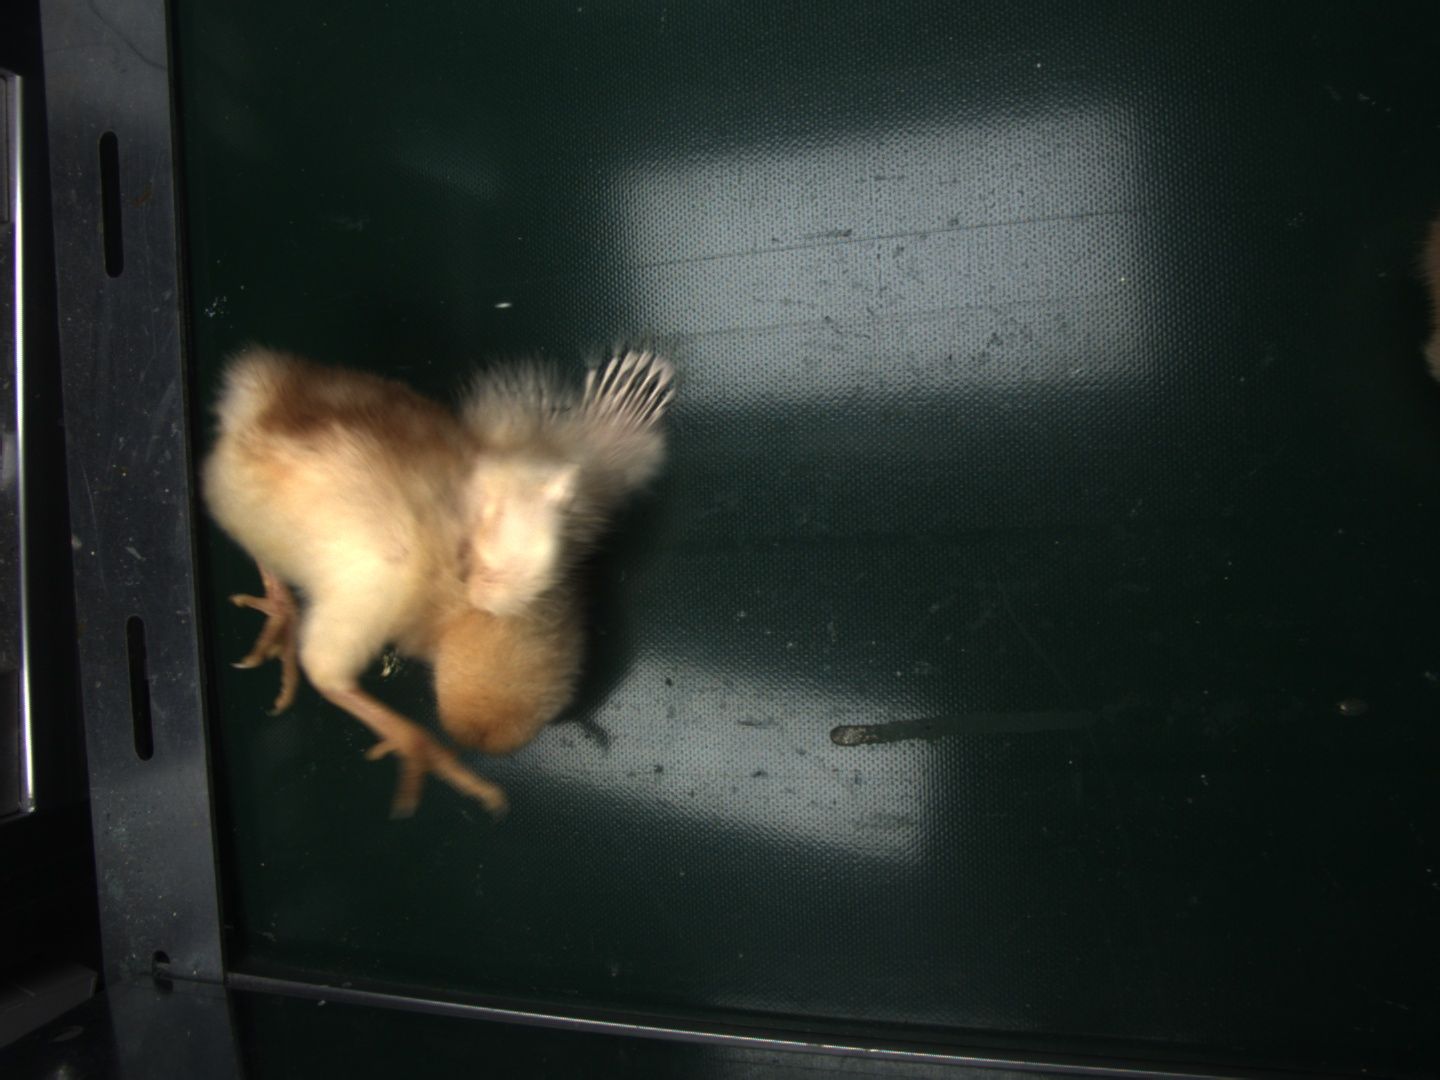female: (579, 349, 679, 431)
